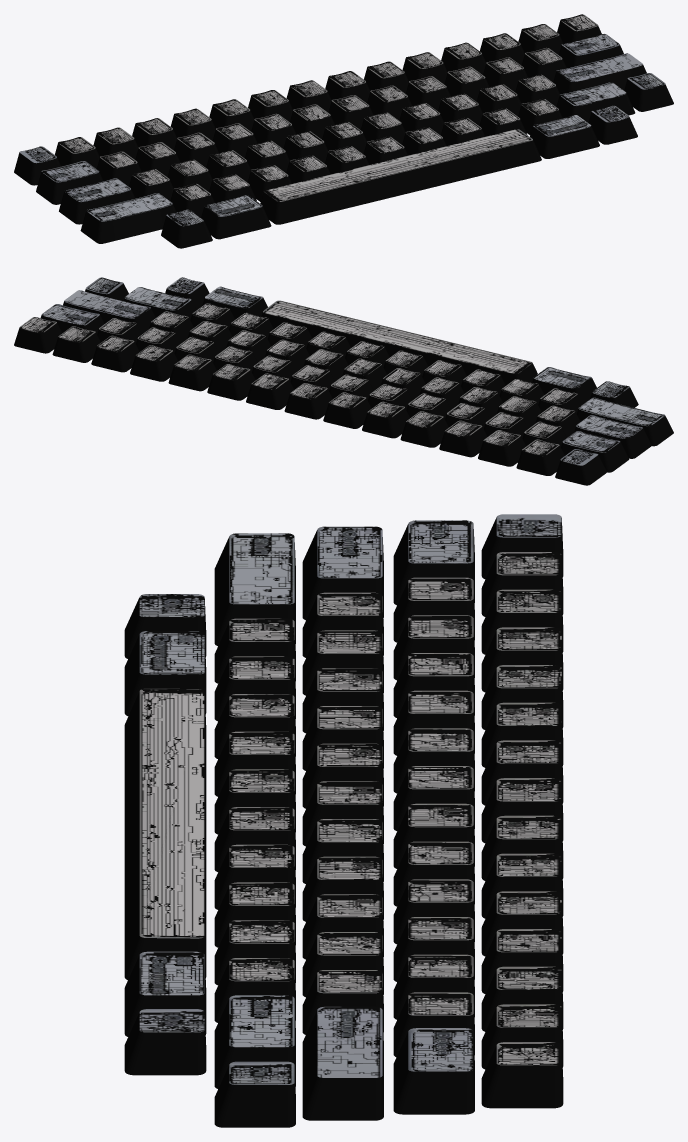
The model's file is keycaps.gltf.
3 views of the same model, one above another, from view 1: azimuth 30°, elevation 25°; view 2: azimuth 150°, elevation 25°; view 3: azimuth 270°, elevation 25° (orthographic). The views are drawn at different scales.
Parts seen in each view (by area): view 1: Plane.002; view 2: Plane.002; view 3: Plane.002.
Part boxes in pixels (<box>): Plane.002: <box>14,14,673,248</box>; Plane.002: <box>14,277,673,485</box>; Plane.002: <box>124,514,563,1127</box>.
Size of the model in its own units: 14.87 by 0.7512 by 4.9.
2 materials, 1 textured.
